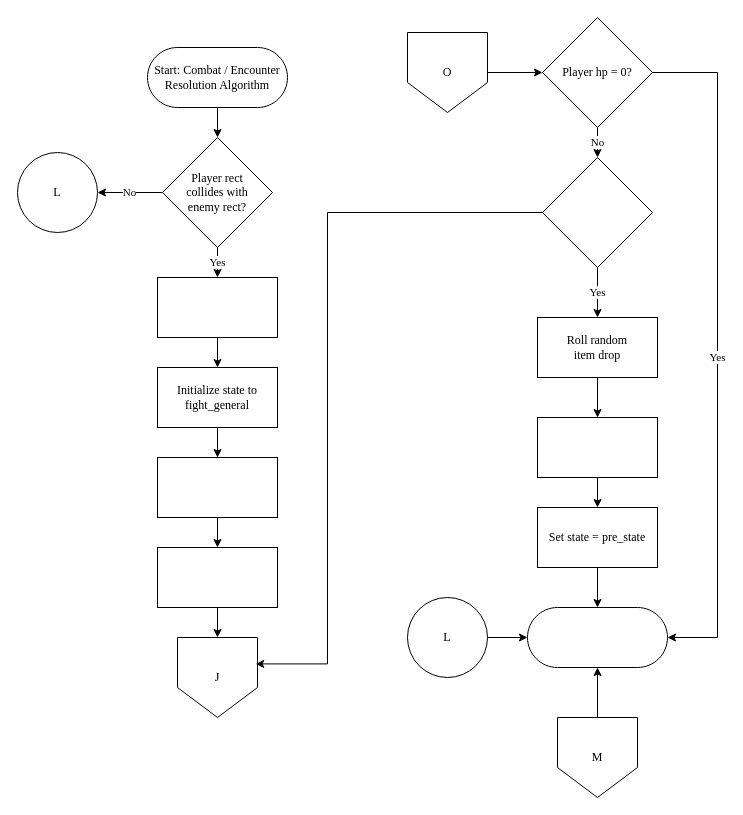
This 743x815 diagram has some shape labels left out. Each missing label, with the centre of its shape:
"End" belongs at point (597, 637).
"Enemy hp = 0?" belongs at point (597, 212).
"Randomize e_hp, e_str, e_agi, e_def" belongs at point (217, 487).
"Remove enemy on the map" belongs at point (597, 447).
"Set pre_state = state" belongs at point (217, 307).
"Set to player's turn" belongs at point (217, 577).
